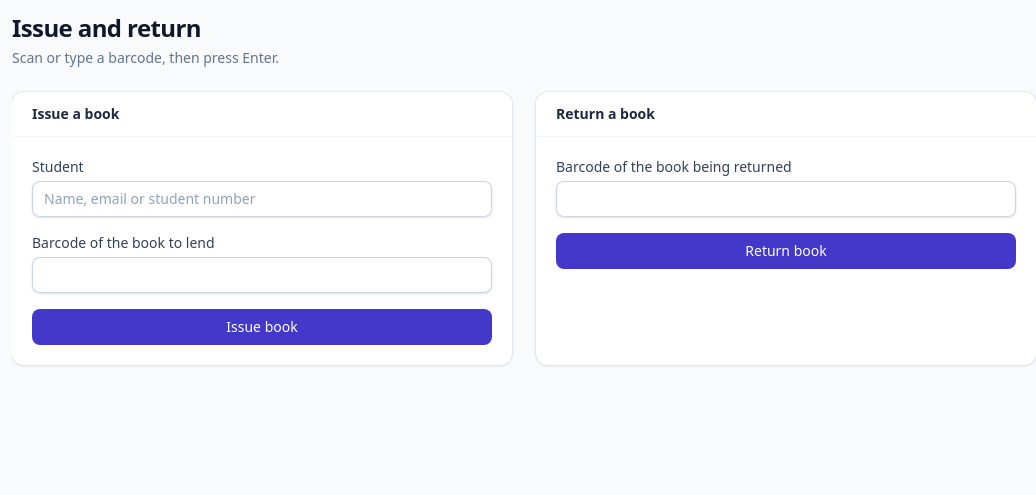
Test: DeskPage: issuing › needs a student and a barcode before asking the server
Click the button "Issue book" at {"x": 262, "y": 327}, box [32,309,492,345]
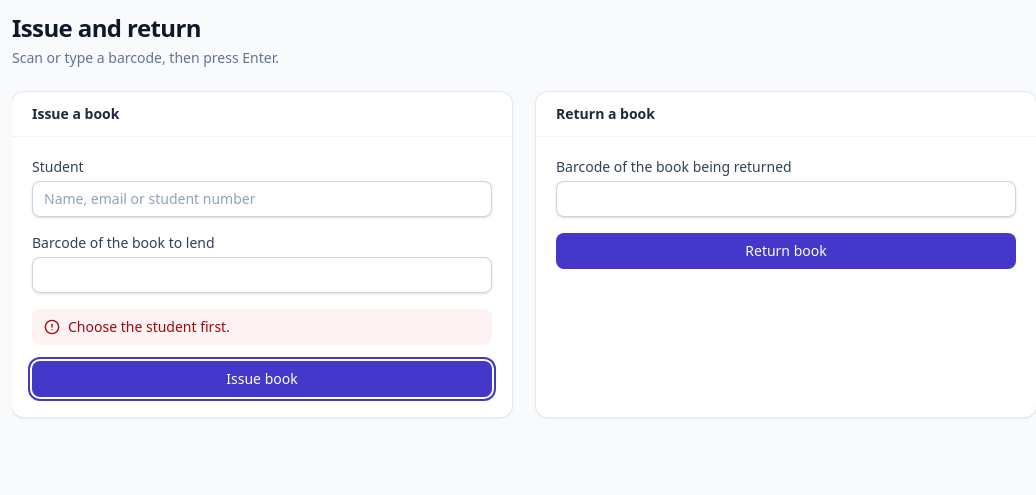
Result: the text "Choose the student first." is shown at [68,317,230,337]
Type "ann" into the search field labelled "Student" at {"x": 262, "y": 199}, box [32,181,492,217]
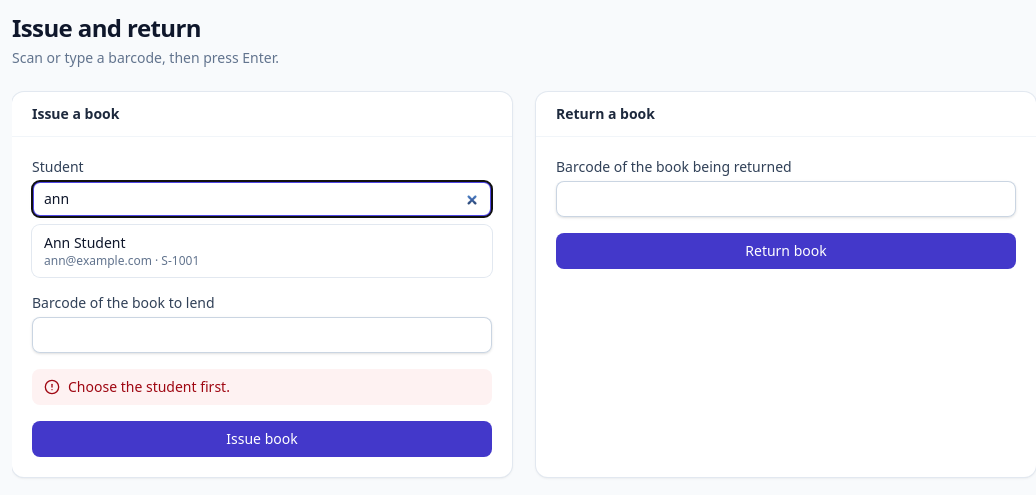
Click the button with aria-label "Select Ann Student" at {"x": 85, "y": 242}, box [32,225,492,277]
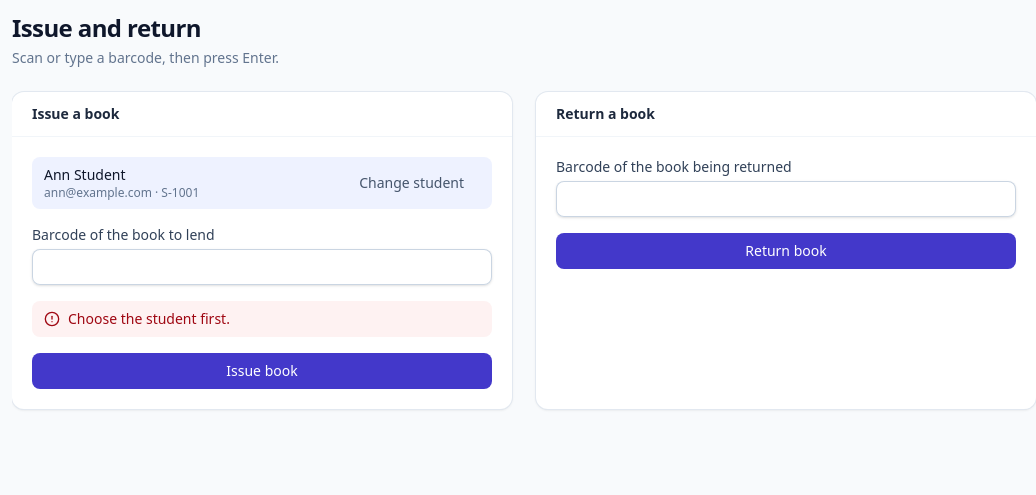
Click the button "Issue book" at {"x": 262, "y": 371}, box [32,353,492,389]
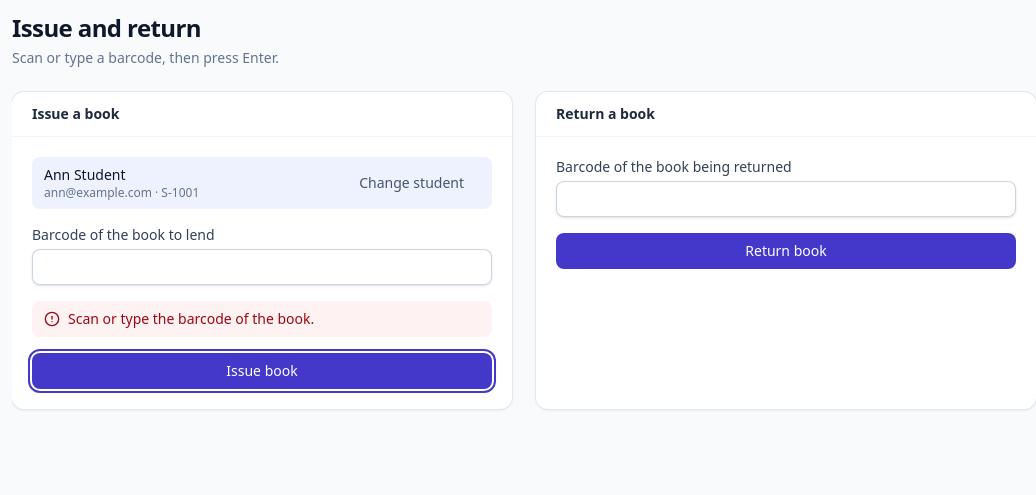
Result: the text "Scan or type the barcode of the book." is shown at [68,309,314,329]
